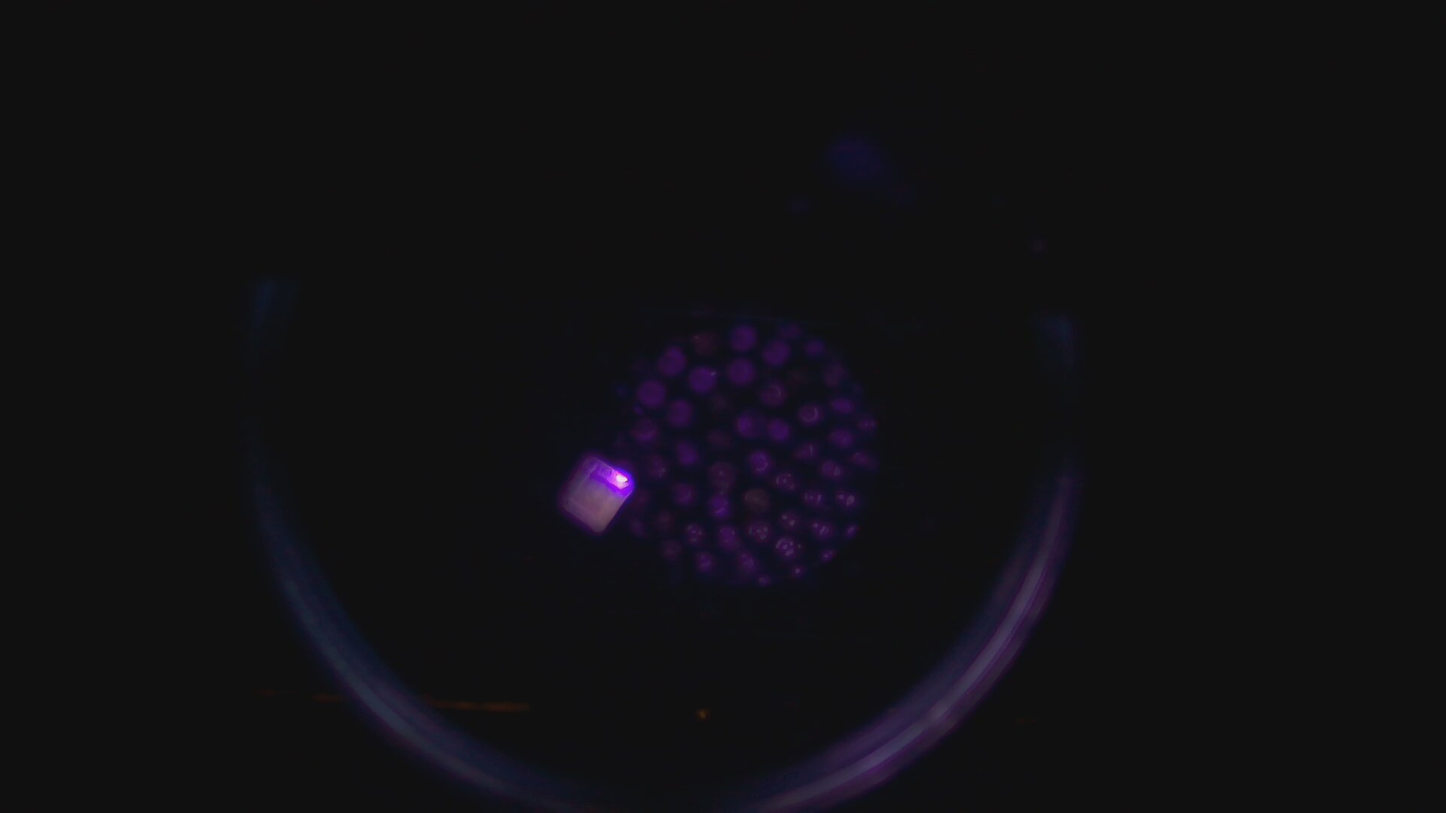plastic: (548, 447, 640, 542)
